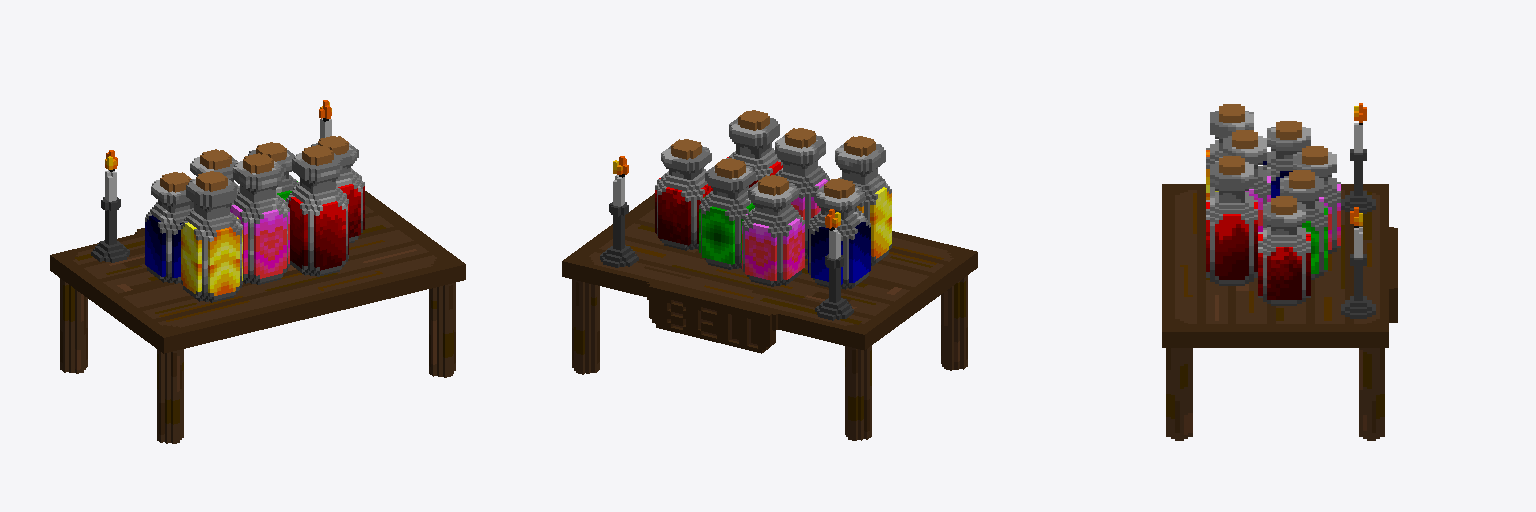
3 views of the same model, side by side, from view 1: azimuth 30°, elevation 25°; view 2: azimuth 150°, elevation 25°; view 3: azimuth 270°, elevation 25° (orthographic).
Parts seen in each view (by area): view 1: object 1; view 2: object 1; view 3: object 1.
Boxes of the visible parts, x1=… form: object 1: x1=50, y1=100, x2=465, y2=443; object 1: x1=562, y1=110, x2=977, y2=440; object 1: x1=1162, y1=103, x2=1397, y2=440.
Size of the model in its own units: 8 by 5.7 by 5.4.
1 materials, 1 textured.